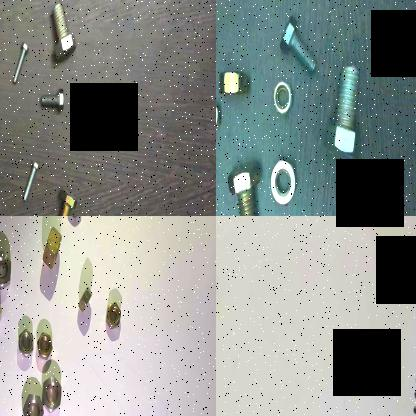Bolts: (323, 60, 370, 170), (276, 12, 321, 80), (219, 156, 266, 216), (46, 0, 76, 60), (10, 38, 30, 88), (40, 86, 66, 116), (53, 185, 77, 216), (20, 160, 38, 200)
NUTS: (268, 153, 300, 216), (216, 57, 248, 102), (266, 77, 298, 121), (42, 222, 63, 268), (40, 373, 62, 416), (19, 390, 47, 416), (15, 324, 34, 362), (102, 298, 122, 334), (34, 328, 52, 366), (0, 247, 14, 291), (76, 284, 94, 318), (216, 94, 226, 132)
